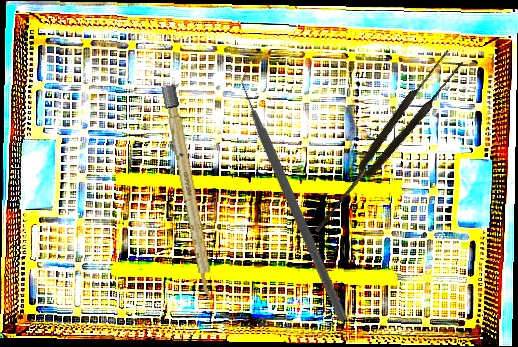Chopper: (159, 62, 436, 323)
Scalpel Handle: (161, 83, 217, 303)
Tissue Forceps: (304, 48, 467, 239)
